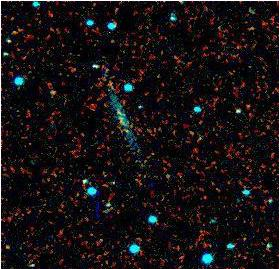star: (0, 227, 24, 257)
